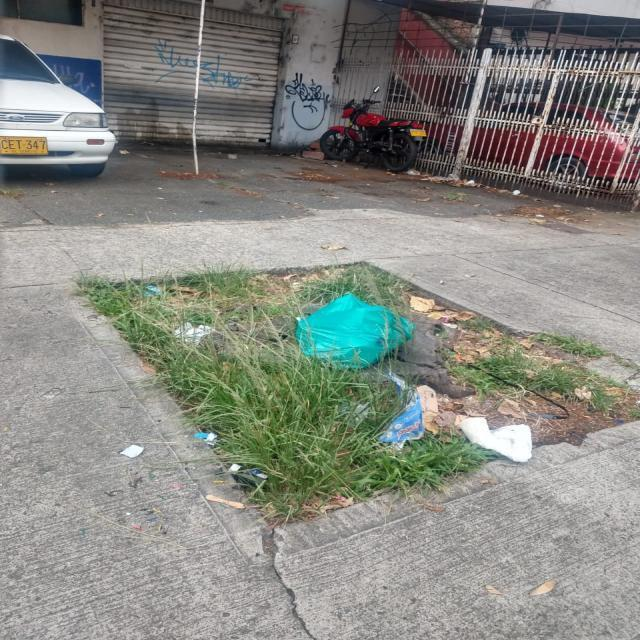Garbage_Bag: (289, 288, 423, 376)
